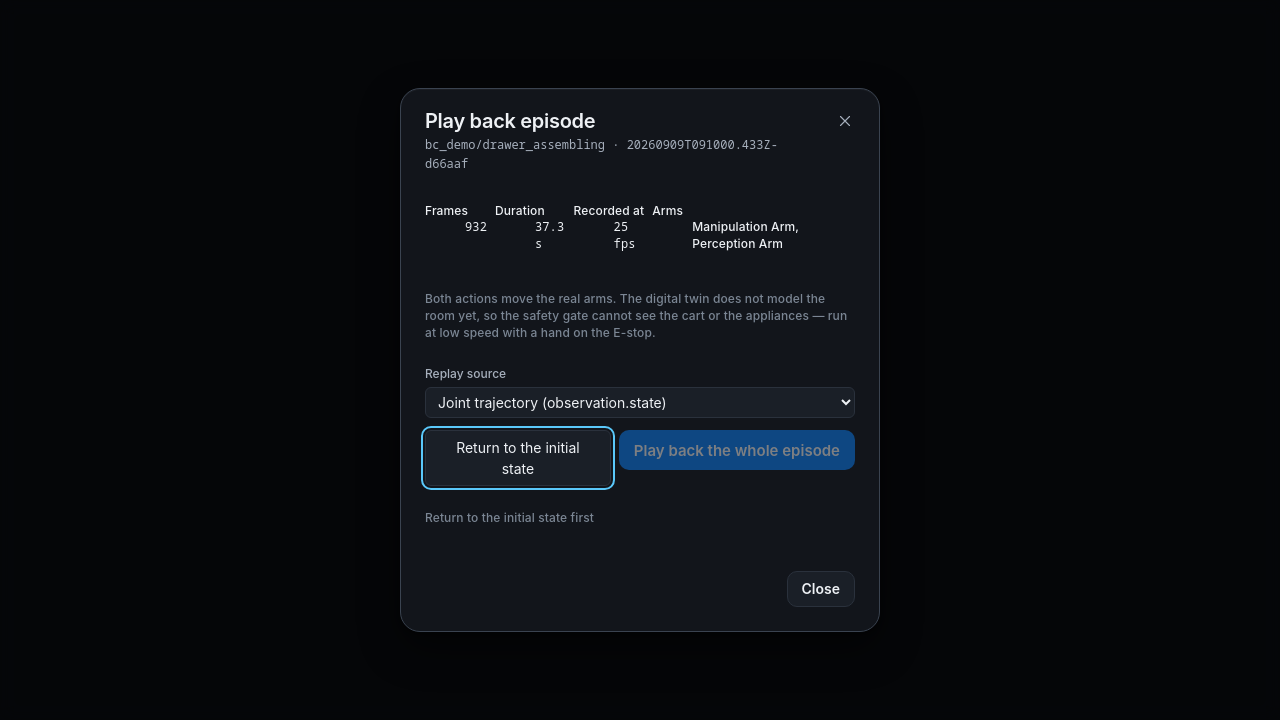
PlaybackDialog › 'already there' counts as arrived — a skipped motion IS being at the initial state
Expected: the element with test id "playback-meta" is shown, x1=425 y1=200 x2=855 y2=255
Click the button with test id "playback-goto-initial".
click(518, 458)  # box x1=425 y1=430 x2=611 y2=486
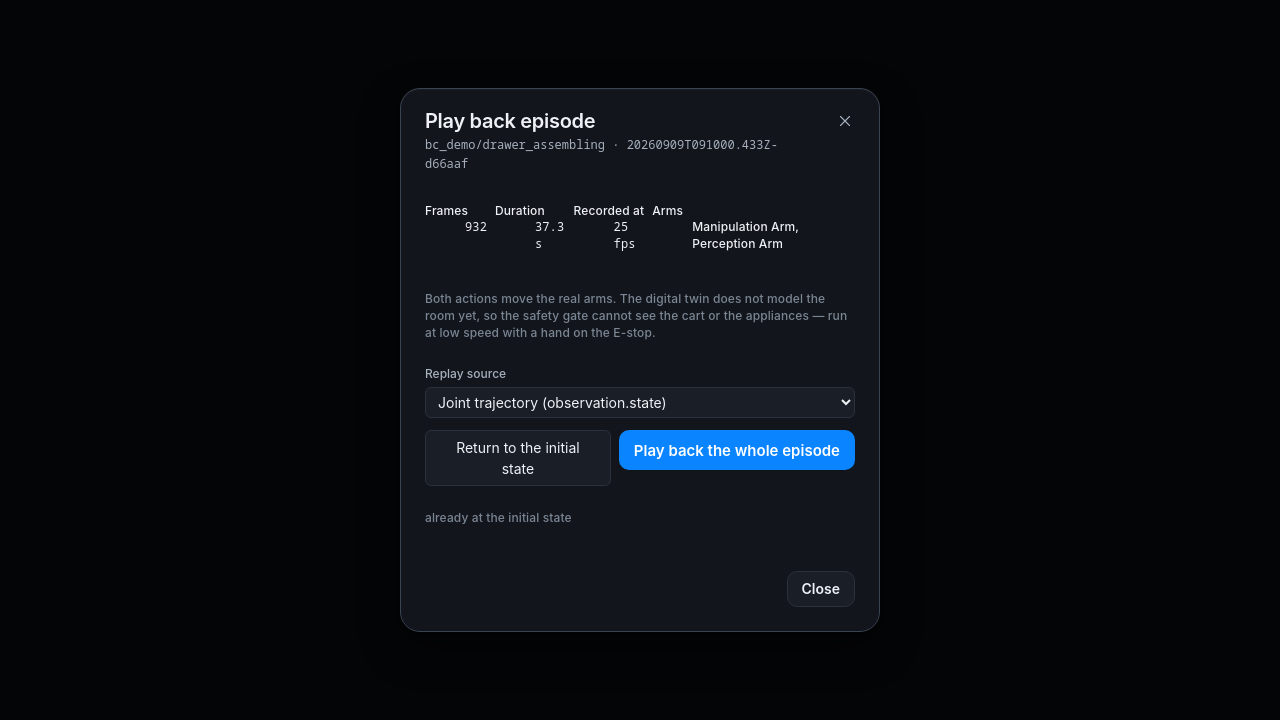
Now the button with test id "playback-play" is enabled, box x1=619 y1=430 x2=855 y2=470
Now the message with test id "playback-outcome" reads "already at the initial state", box x1=425 y1=510 x2=572 y2=525
